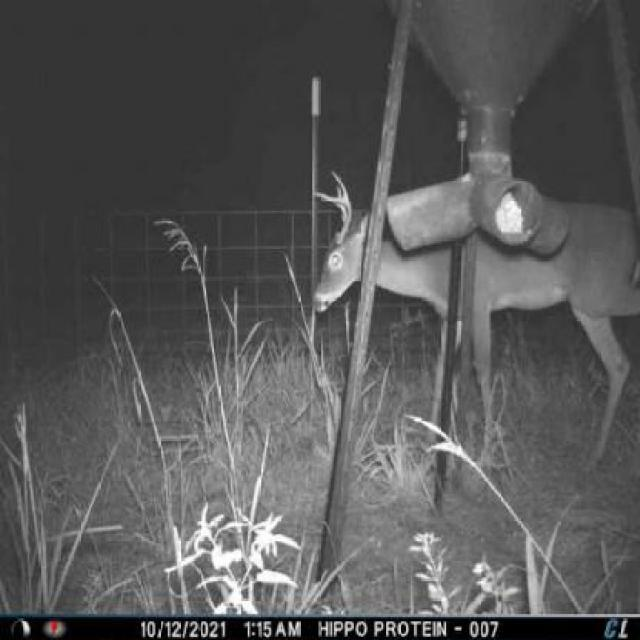Deer: (300, 161, 638, 479)
